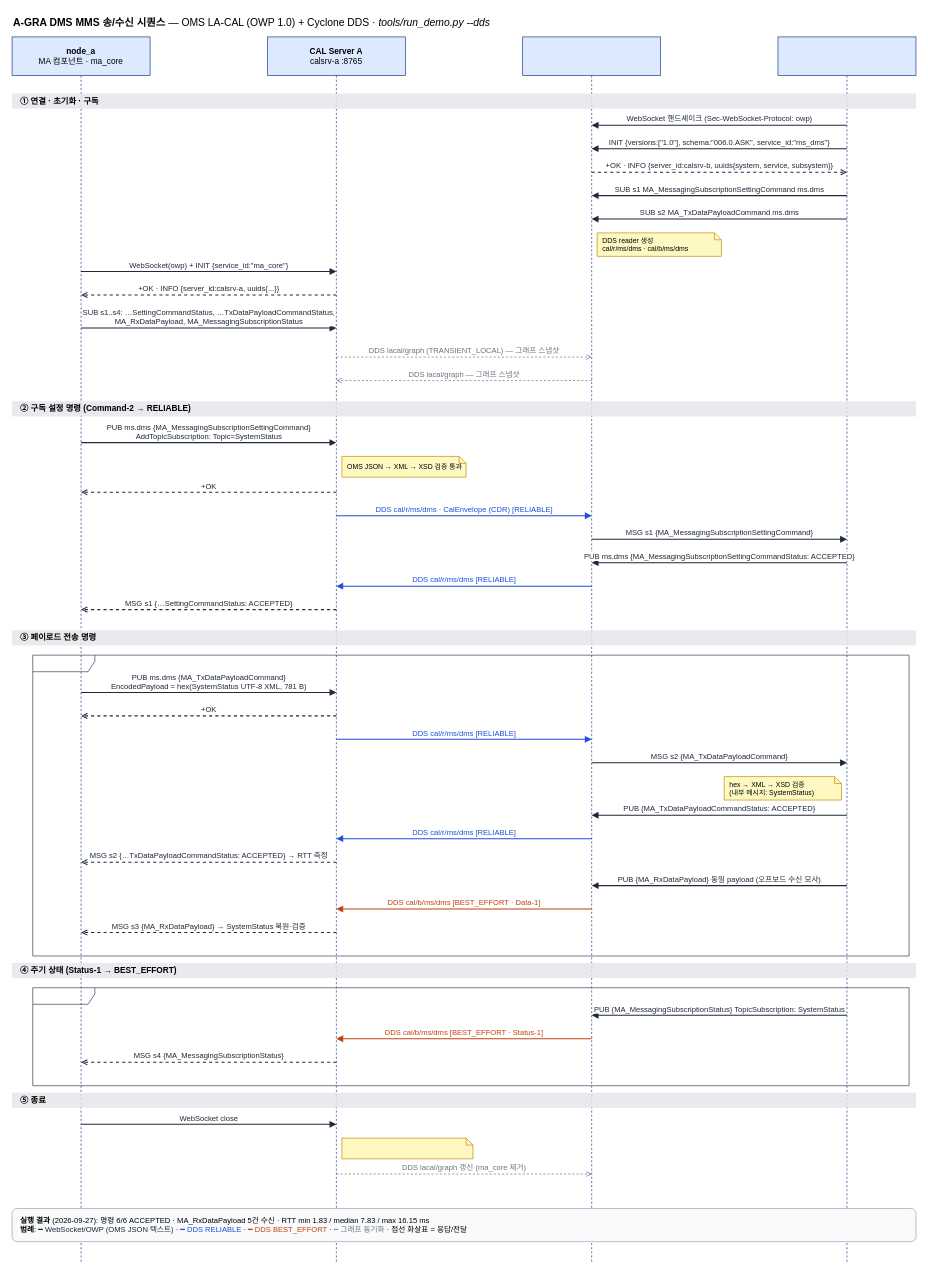
This 928x1276 diagram has some shape labels left out. The shapes that lost their labels are listed below. From the top down, each one's box as (x1, y1, x2, y2) in pixels, then its label:
(522, 36, 661, 1264): CAL Server B calsrv-b :8775
(777, 36, 916, 1264): node_b MS DMS 모사 · ms_dms
(32, 654, 909, 956): loop ×5
(32, 987, 909, 1086): loop 1 Hz
(341, 1137, 473, 1159): 구독 해제 · 그래프 노드/엣지 제거
